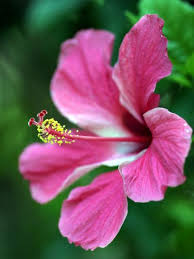hybiscus: (19, 16, 192, 250)
